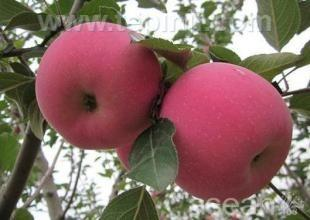apple: (159, 62, 293, 200), (35, 23, 157, 152)
